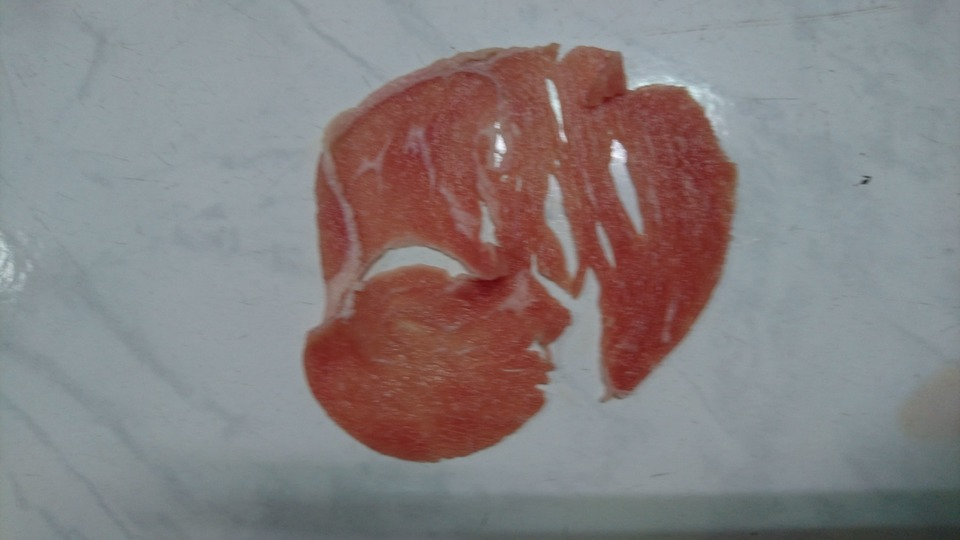restructured meat: (306, 46, 735, 469)
